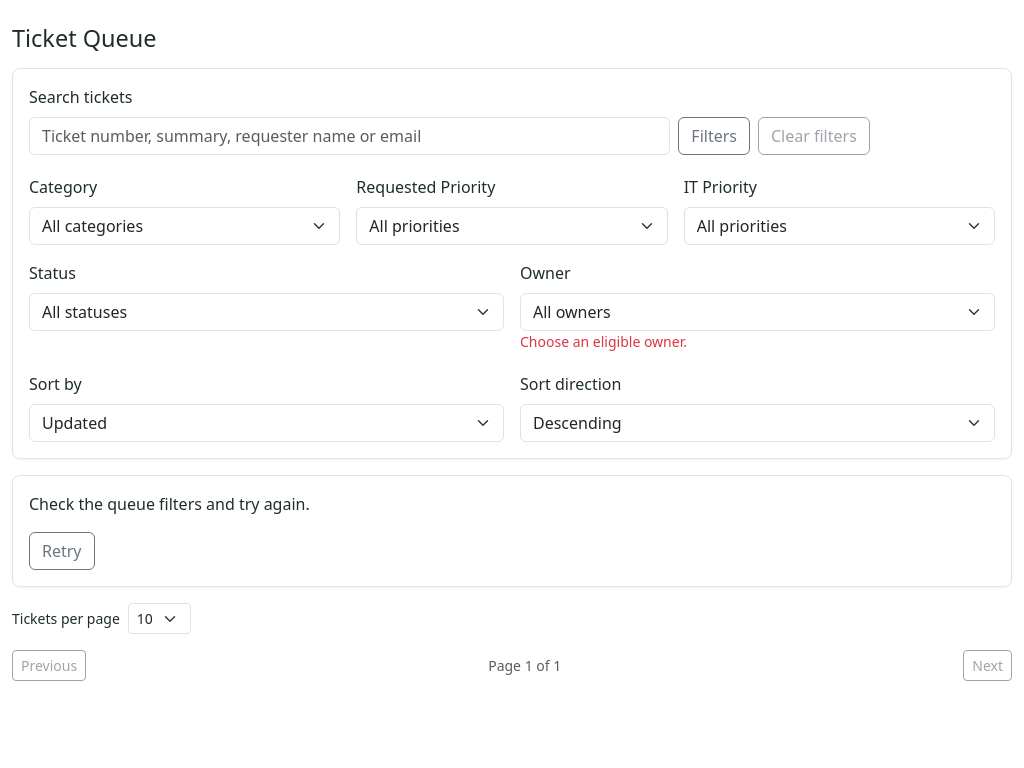
Test: Staff Ticket Queue (UI-06) › shows invalid query field feedback and forbidden without ticket data
Expected: the text "Choose an eligible owner." is shown, [520, 332, 687, 351]
Step 1. Click the button "Retry" → click(62, 551), box [29, 532, 94, 570]
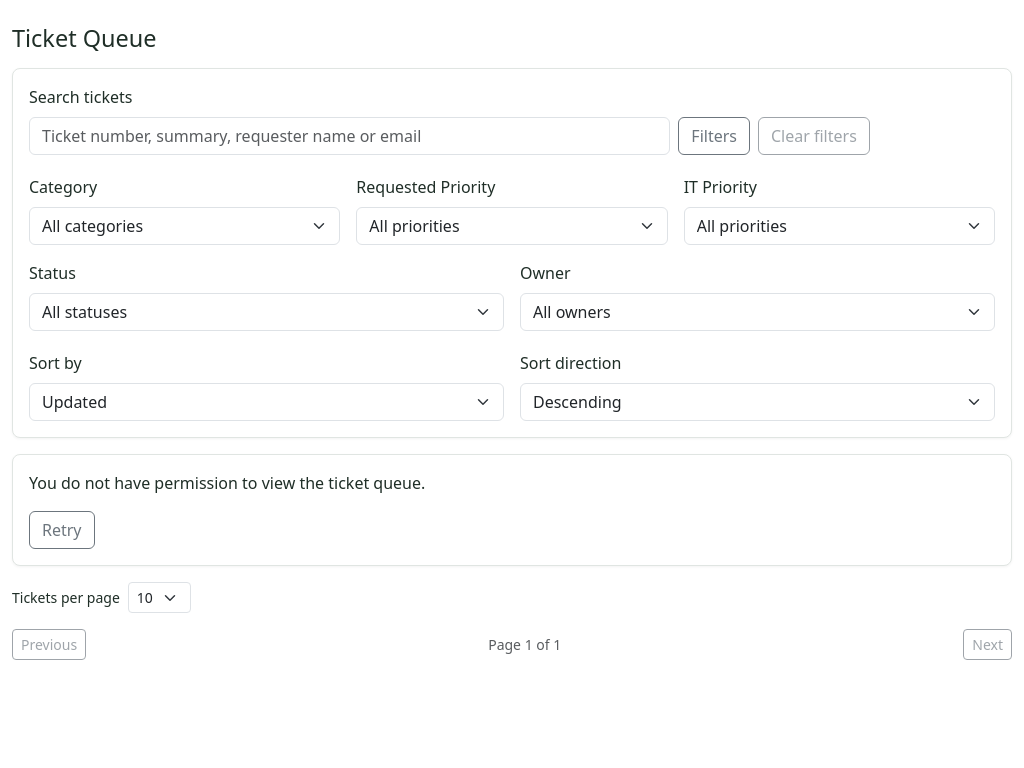
Expected: the message shows "You do not have permission to view the ticket queue.", [29, 472, 425, 494]
